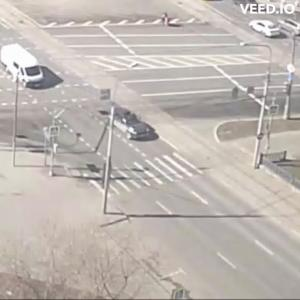car: (1, 43, 46, 91), (109, 107, 153, 143), (251, 21, 282, 38), (279, 20, 300, 39)
